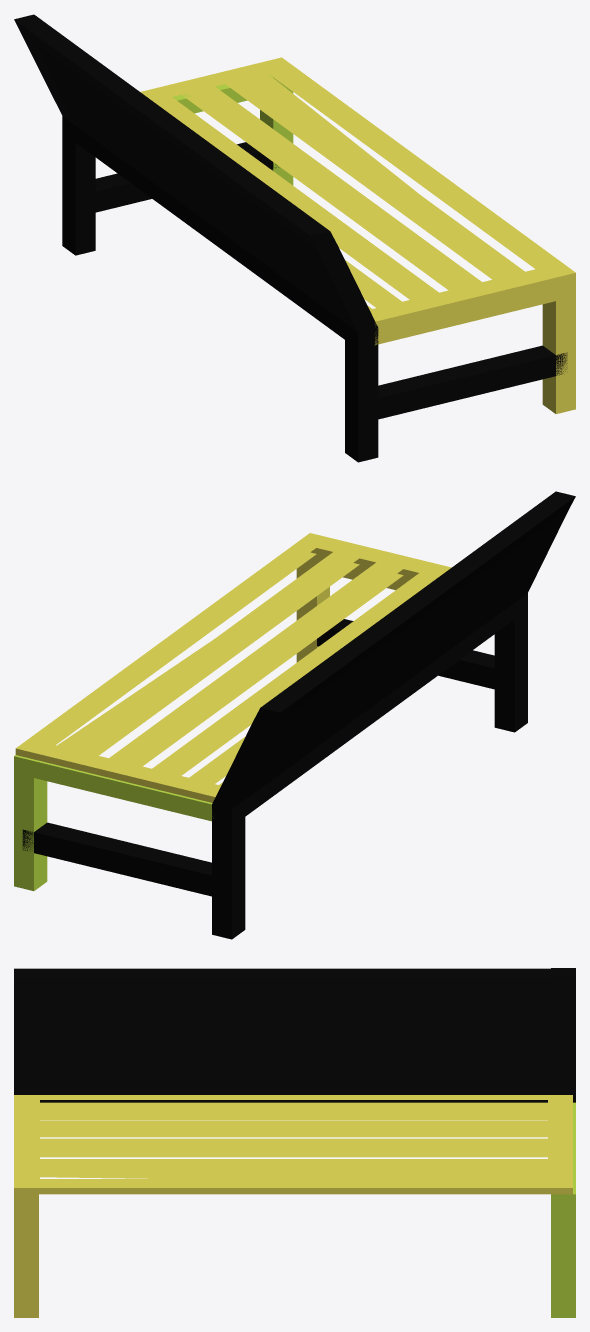
File: Sendyk_Tobias_48592475.fbx
The picture shows the model from 3 angles, top to bottom: view 1: azimuth 30°, elevation 25°; view 2: azimuth 150°, elevation 25°; view 3: azimuth 270°, elevation 25°; orthographic projection. The views are drawn at different scales.
Visible parts, largest first — view 1: Cube.001, Cube, Cube.002, Cube.005, Cube.003, Cube.004; view 2: Cube.001, Cube, Cube.005, Cube.004, Cube.003, Cube.002; view 3: Cube, Cube.001, Cube.004.
Part boxes in pixels (<box>): Cube.001: <box>140,57,575,413</box>; Cube: <box>28,24,378,462</box>; Cube.002: <box>370,345,567,420</box>; Cube.005: <box>14,14,95,255</box>; Cube.003: <box>87,142,278,214</box>; Cube.004: <box>172,73,293,185</box>; Cube.001: <box>15,533,451,802</box>; Cube: <box>236,491,575,817</box>; Cube.005: <box>212,698,293,939</box>; Cube.004: <box>14,755,213,890</box>; Cube.003: <box>22,822,219,898</box>; Cube.002: <box>317,619,502,689</box>; Cube: <box>14,968,574,1102</box>; Cube.001: <box>14,1095,572,1317</box>; Cube.004: <box>551,1102,575,1317</box>.
Bounding box in the file's own units: 301 × 258 × 579.
